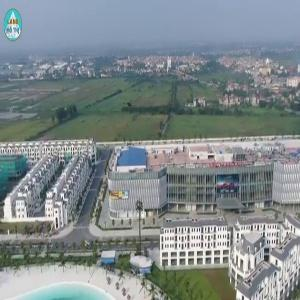drone: (110, 87, 151, 128)
